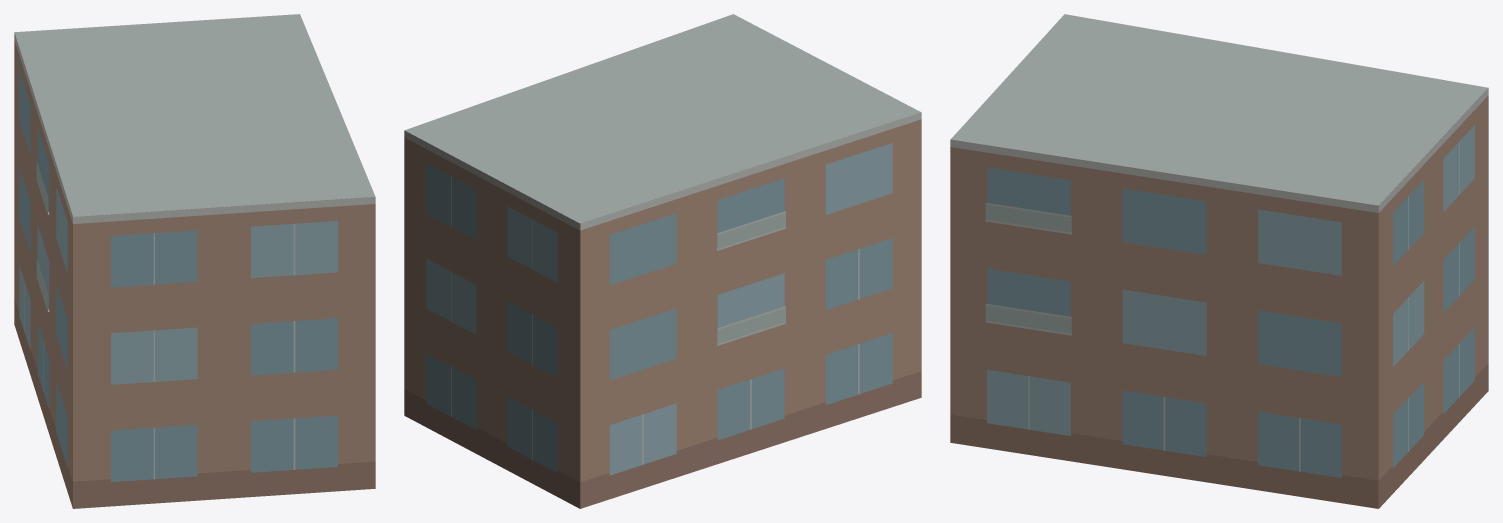
Rendered from survey-upis-32870135.glb.
3 renders of one model, left to right at view 1: azimuth 30°, elevation 25°; view 2: azimuth 150°, elevation 25°; view 3: azimuth 270°, elevation 25°, orthographic. The views are drawn at different scales.
Visible parts, largest first — view 1: survey-upis-32870135.tmp; view 2: survey-upis-32870135.tmp; view 3: survey-upis-32870135.tmp.
Part boxes in pixels (box(x1,y1,x2,y2)): survey-upis-32870135.tmp: box(14, 14, 375, 508); survey-upis-32870135.tmp: box(404, 14, 921, 508); survey-upis-32870135.tmp: box(950, 14, 1488, 508).
Size of the model in its own units: 13.57 by 10 by 16.09.
